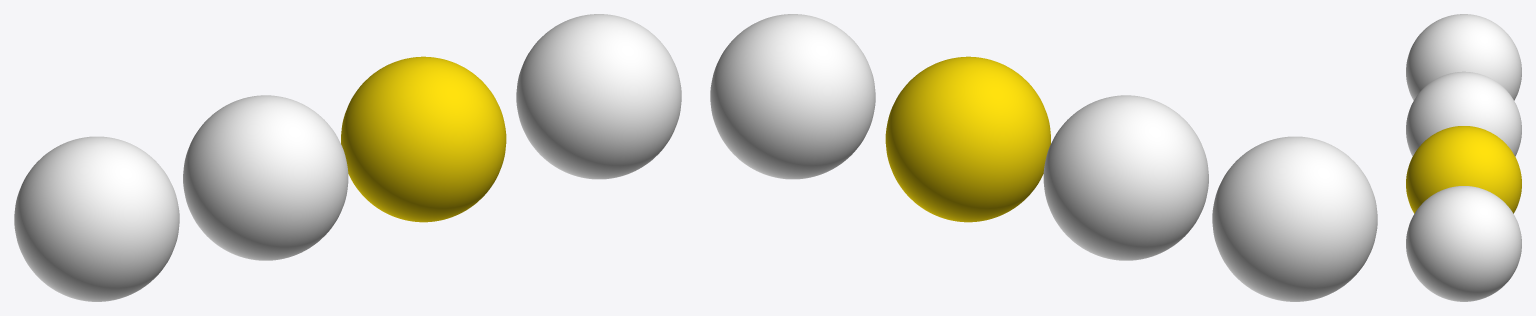
File: balls.glb
The picture shows the model from 3 angles, left to right: view 1: azimuth 30°, elevation 25°; view 2: azimuth 150°, elevation 25°; view 3: azimuth 270°, elevation 25°; orthographic projection. The views are drawn at different scales.
Parts seen in each view (by area): view 1: Object_2, Object_5, Object_3, Object_4; view 2: Object_2, Object_5, Object_3, Object_4; view 3: Object_5, Object_4, Object_2, Object_3.
Boxes of the visible parts, x1,y1,x2,y2 form: Object_2: [14, 136, 179, 301]; Object_5: [516, 14, 681, 179]; Object_3: [183, 95, 348, 260]; Object_4: [341, 56, 506, 222]; Object_2: [1212, 136, 1377, 301]; Object_5: [710, 14, 875, 179]; Object_3: [1043, 95, 1208, 260]; Object_4: [885, 56, 1050, 222]; Object_5: [1406, 186, 1521, 301]; Object_4: [1406, 126, 1521, 213]; Object_2: [1406, 14, 1521, 100]; Object_3: [1406, 71, 1521, 156].
Size of the model in its own units: 9 by 2 by 2.
